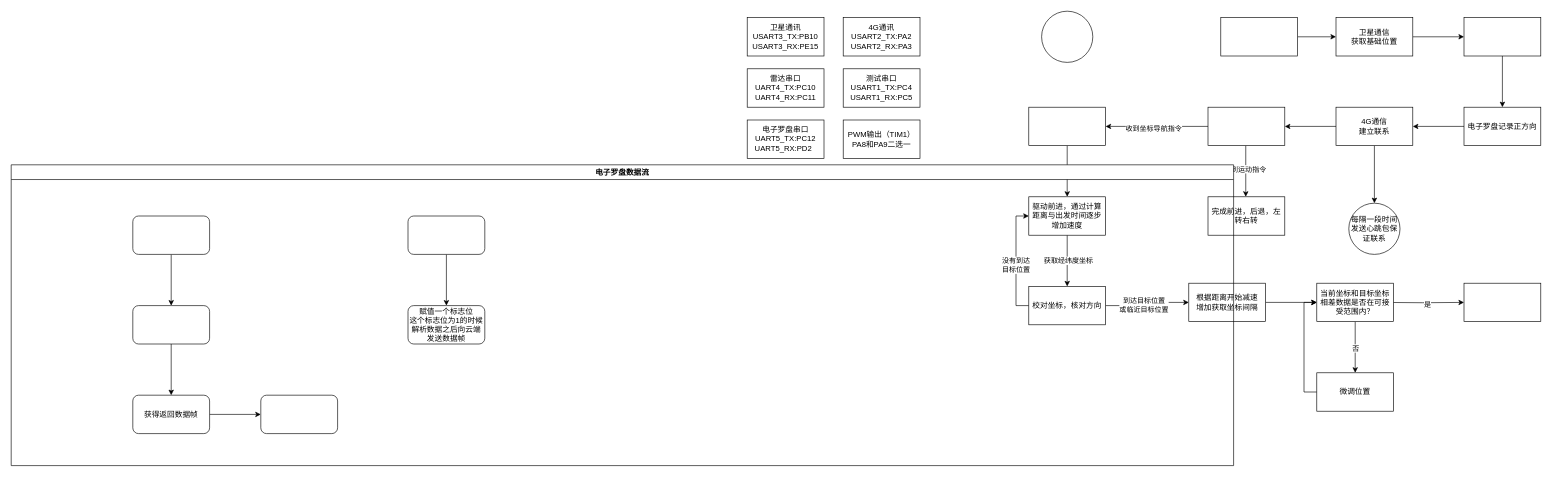
The diagram is 1552 pixels wide and 477 high, and some of its shapes have lost their labels. Each missing label, with the centre of its shape:
云端获取欧拉角: the point at 446,234
初始化设备 PWM,三个串口,一个IIC ，两个GPIO: the point at 1259,36
到达目标位置: the point at 1502,302
发送获取指令: the point at 171,324
每过一段时间获取当前经纬度坐标: the point at 1067,36
获得要读取欧拉角的命令: the point at 171,234
解析并存储赋值: the point at 299,414
计算角度，参考电子罗盘转向: the point at 1067,126
进入接收指令任务: the point at 1246,126
雷达检测 观察附近地形: the point at 1502,36
